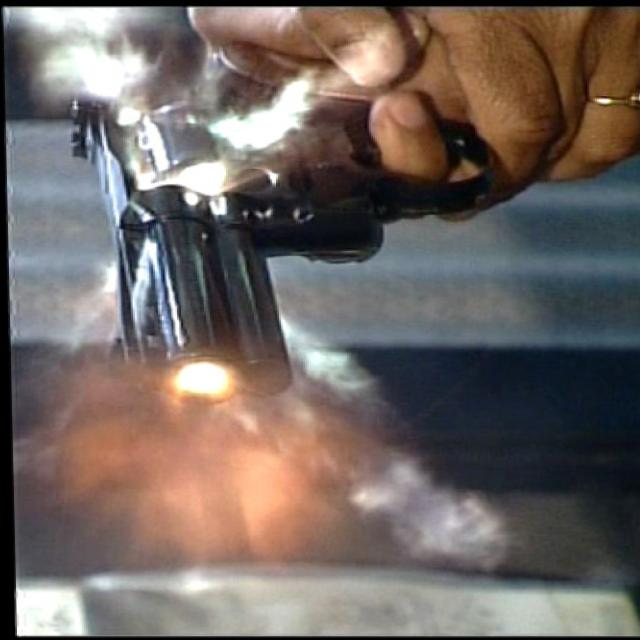handgun: (61, 32, 495, 406)
